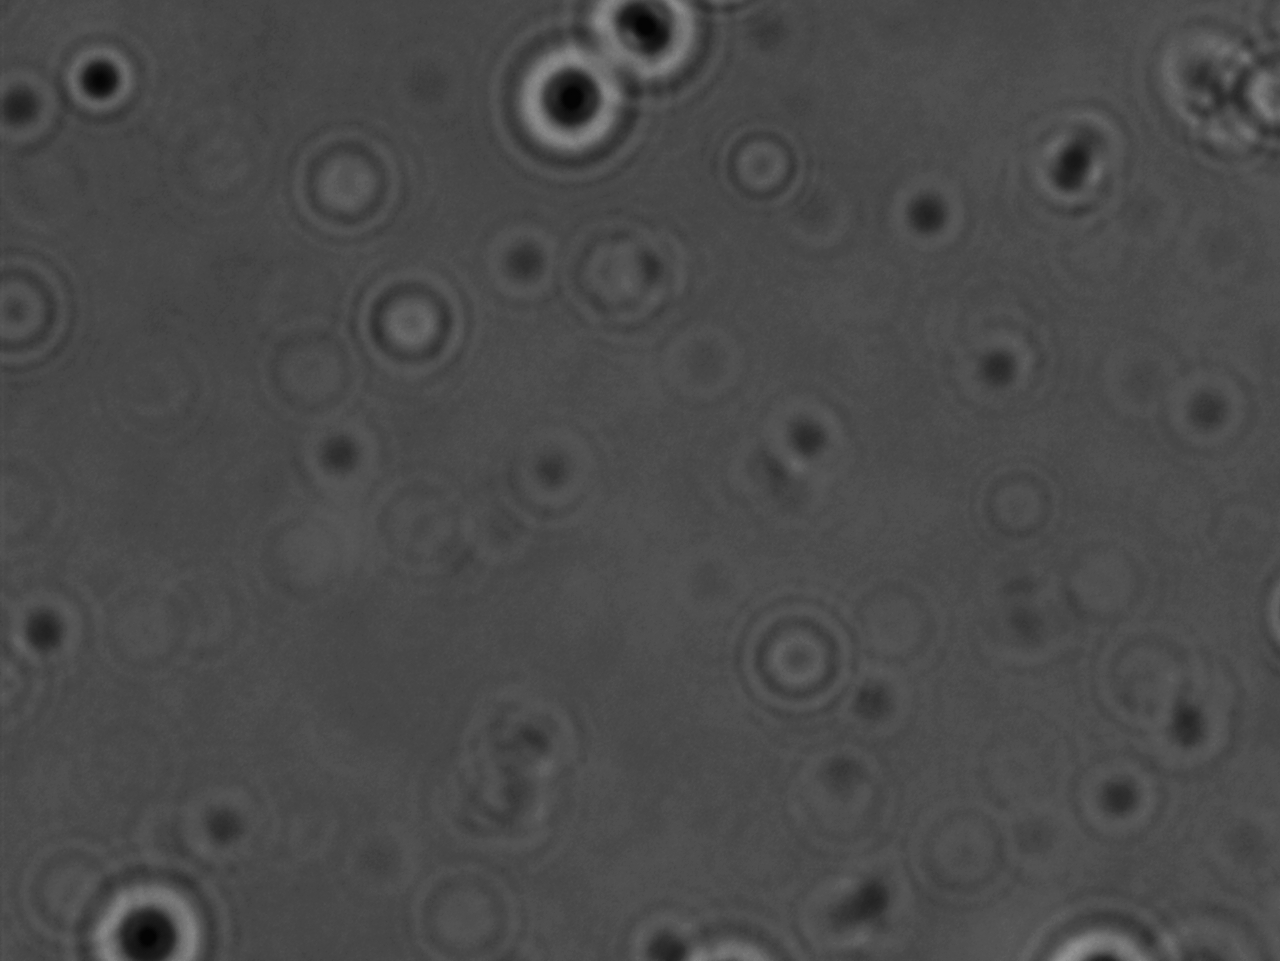depth:-24: (81, 819, 247, 961), (487, 28, 636, 180)
